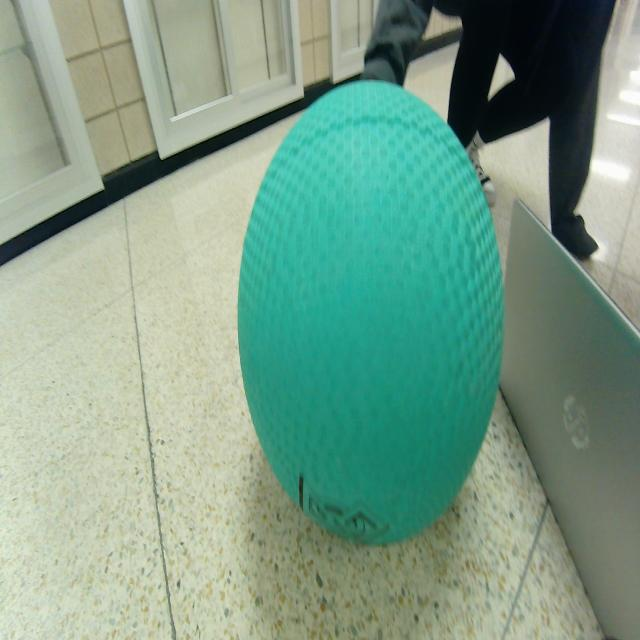algae: (238, 81, 504, 544)
